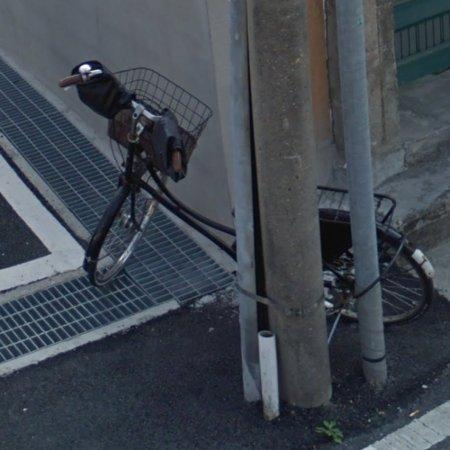bicycles: (59, 61, 236, 286), (376, 194, 434, 323), (319, 186, 357, 318)
